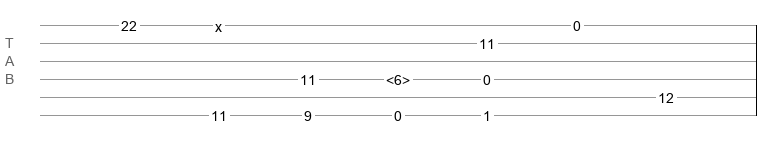0: (394, 108, 402, 118), (483, 72, 491, 82), (573, 18, 581, 28)
1: (483, 108, 491, 118)
11: (211, 108, 227, 118), (300, 72, 316, 82), (479, 36, 495, 46)
12: (658, 90, 674, 100)
22: (121, 18, 137, 28)
9: (304, 108, 312, 118)
harmonic: (386, 72, 410, 82)
x: (215, 19, 222, 27)
